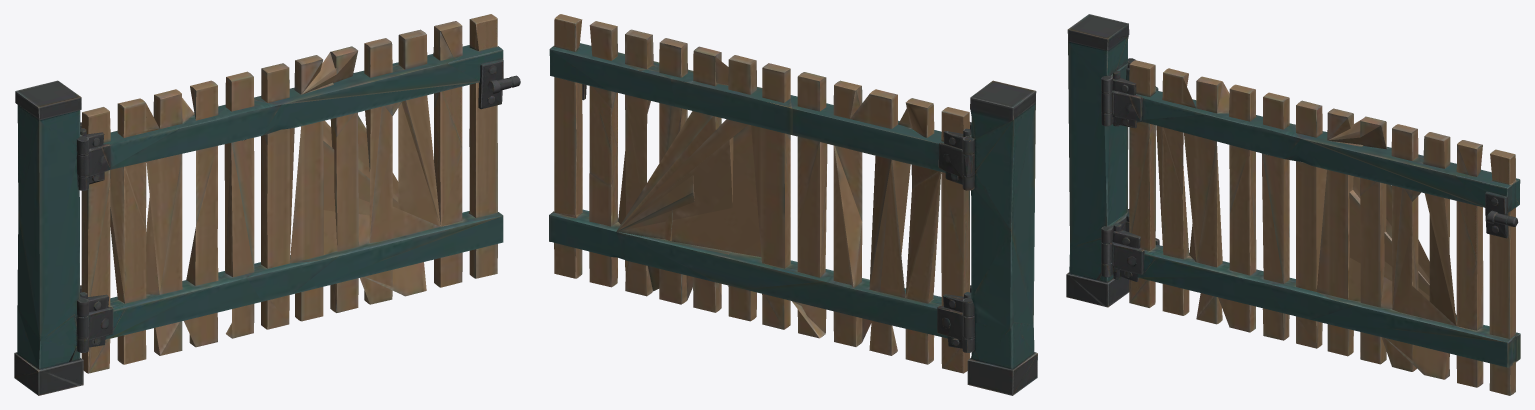
The model's file is picketGate.glb.
3 views of the same model, side by side, from view 1: azimuth 30°, elevation 25°; view 2: azimuth 150°, elevation 25°; view 3: azimuth 330°, elevation 25° (orthographic). The views are drawn at different scales.
Parts seen in each view (by area): view 1: Mesh_0; view 2: Mesh_0; view 3: Mesh_0.
Part boxes in pixels (x1,y1,x2,y2): Mesh_0: (14, 14, 520, 395); Mesh_0: (549, 14, 1037, 395); Mesh_0: (1066, 14, 1520, 395).
Size of the model in its own units: 1.05 by 0.6009 by 0.12.
Materials: 1 (1 with a texture image).
